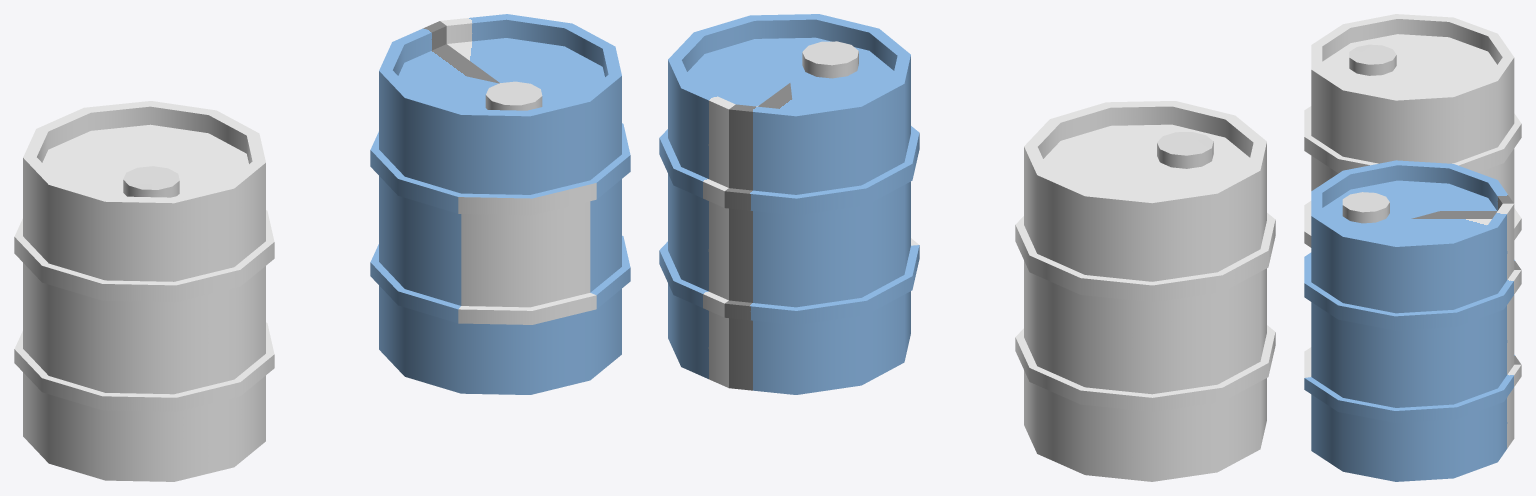
The model's file is Explosive.fbx.
The picture shows the model from 3 angles, left to right: view 1: azimuth 30°, elevation 25°; view 2: azimuth 150°, elevation 25°; view 3: azimuth 270°, elevation 25°; orthographic projection. The views are drawn at different scales.
Parts seen in each view (by area): view 1: Explosive_02, Explosive_01; view 2: Explosive_01, Explosive_02; view 3: Explosive_01, Explosive_02.
Part boxes in pixels (x1,y1,x2,y2): Explosive_02: [14, 101, 274, 481]; Explosive_01: [370, 14, 630, 394]; Explosive_01: [659, 14, 919, 394]; Explosive_02: [1015, 101, 1275, 481]; Explosive_01: [1304, 160, 1521, 481]; Explosive_02: [1304, 14, 1521, 247].
Bounding box in the file's own units: 377 × 173 × 145.
